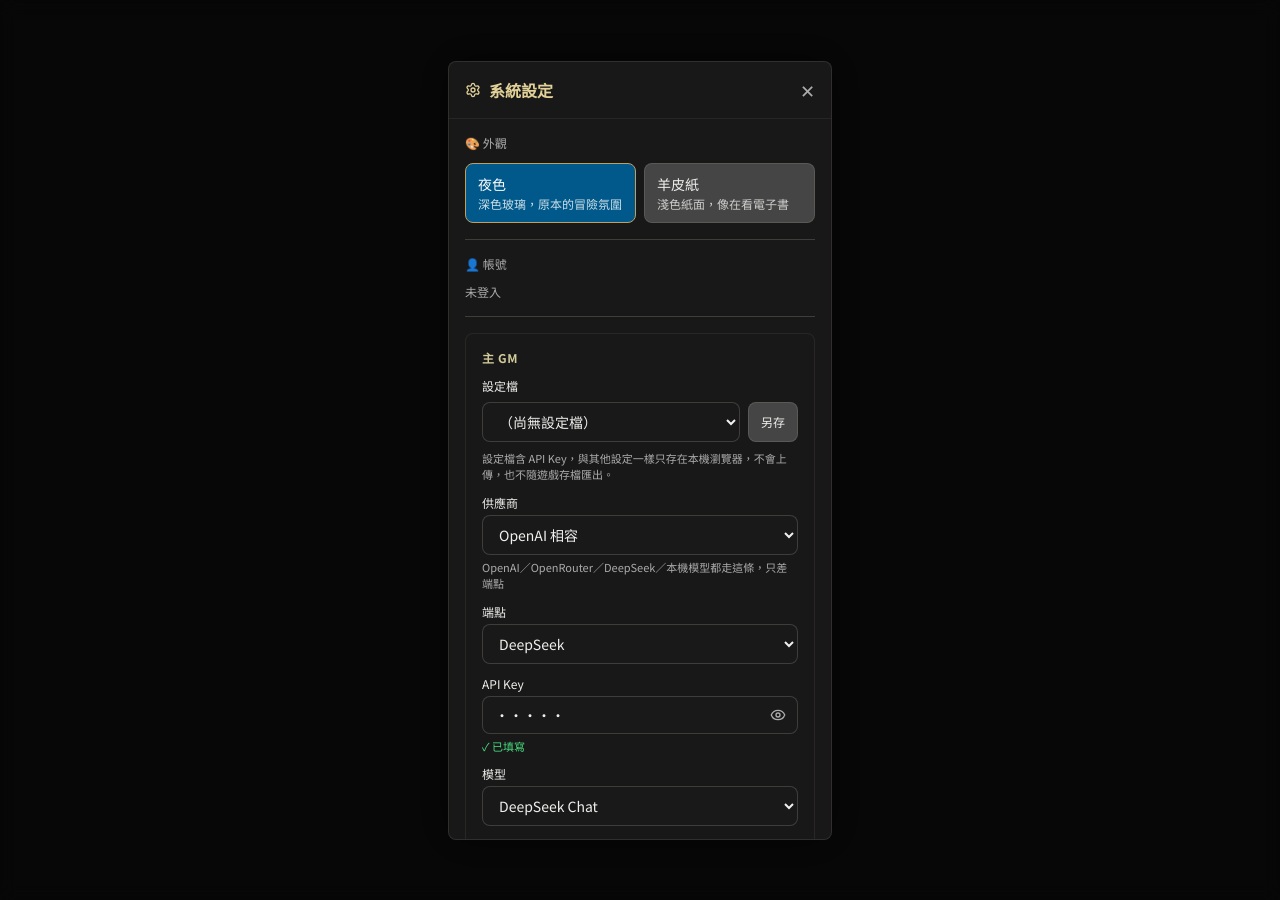
Test: SettingsModal — 設定檔 › localStorage 寫不進去時明講，不靜默失敗
Click the button "另存": (773, 422) [748, 402, 798, 442]
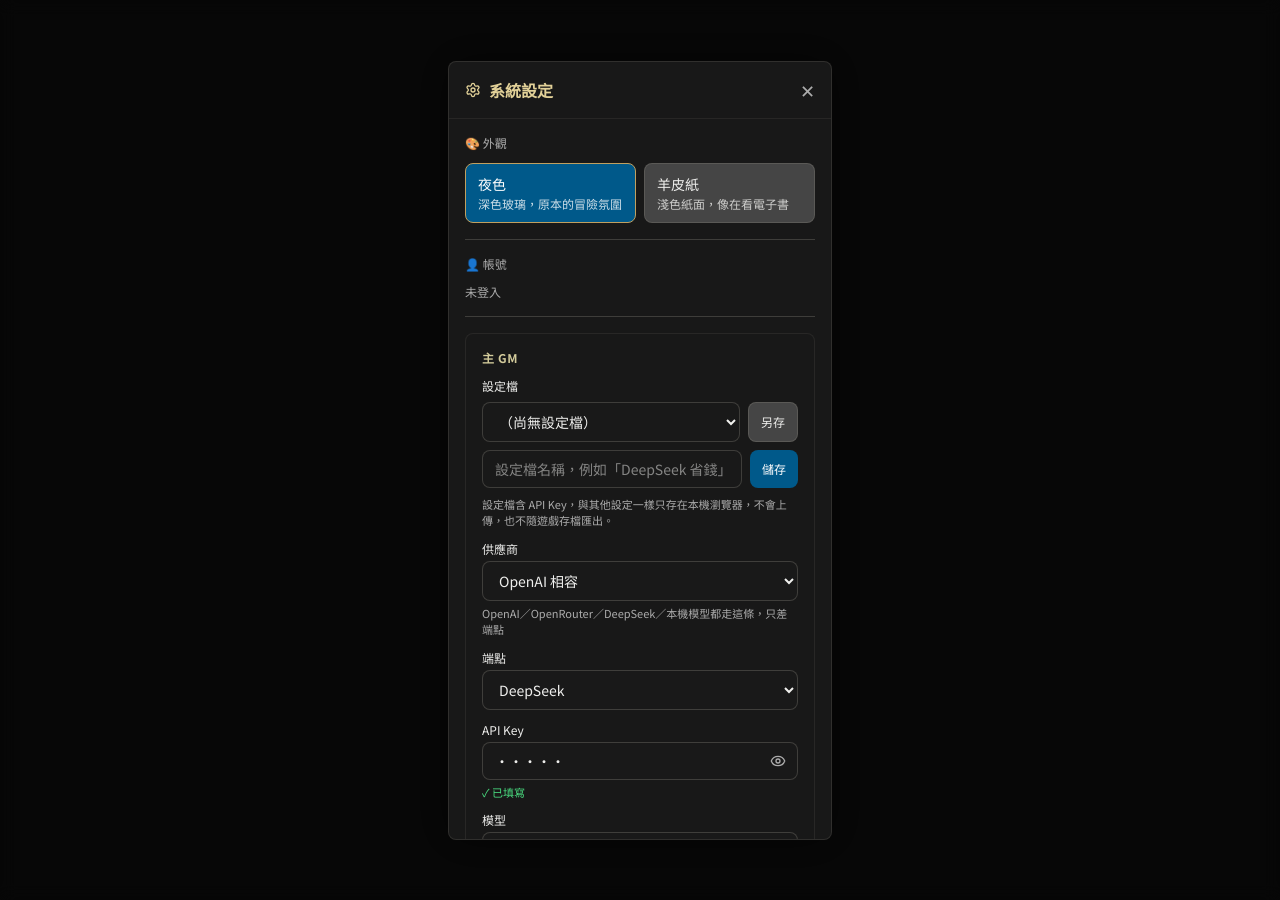
In the field labelled "設定檔名稱": (612, 468) [482, 450, 742, 488], type "X"
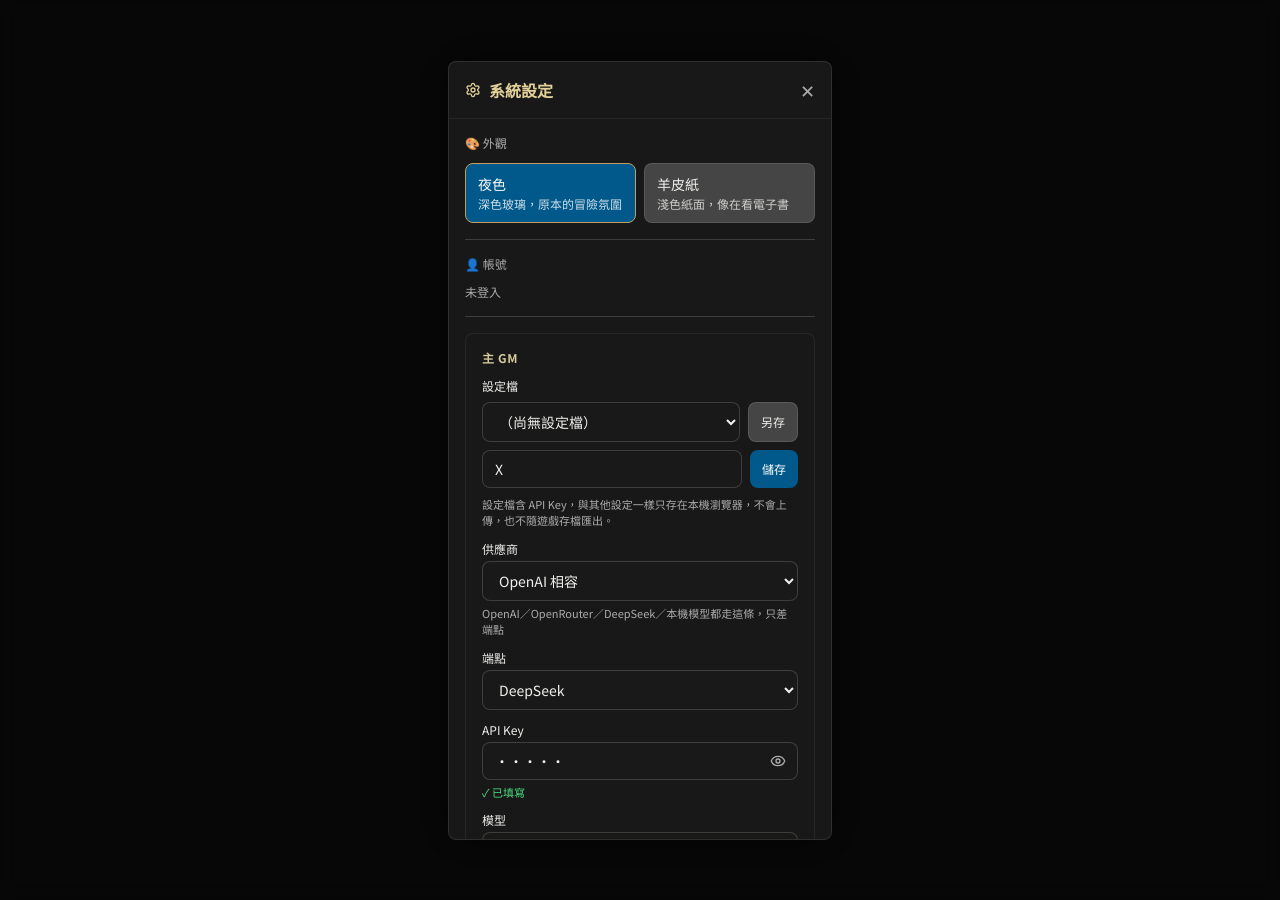
Click the button "儲存": (774, 468) [750, 450, 798, 488]
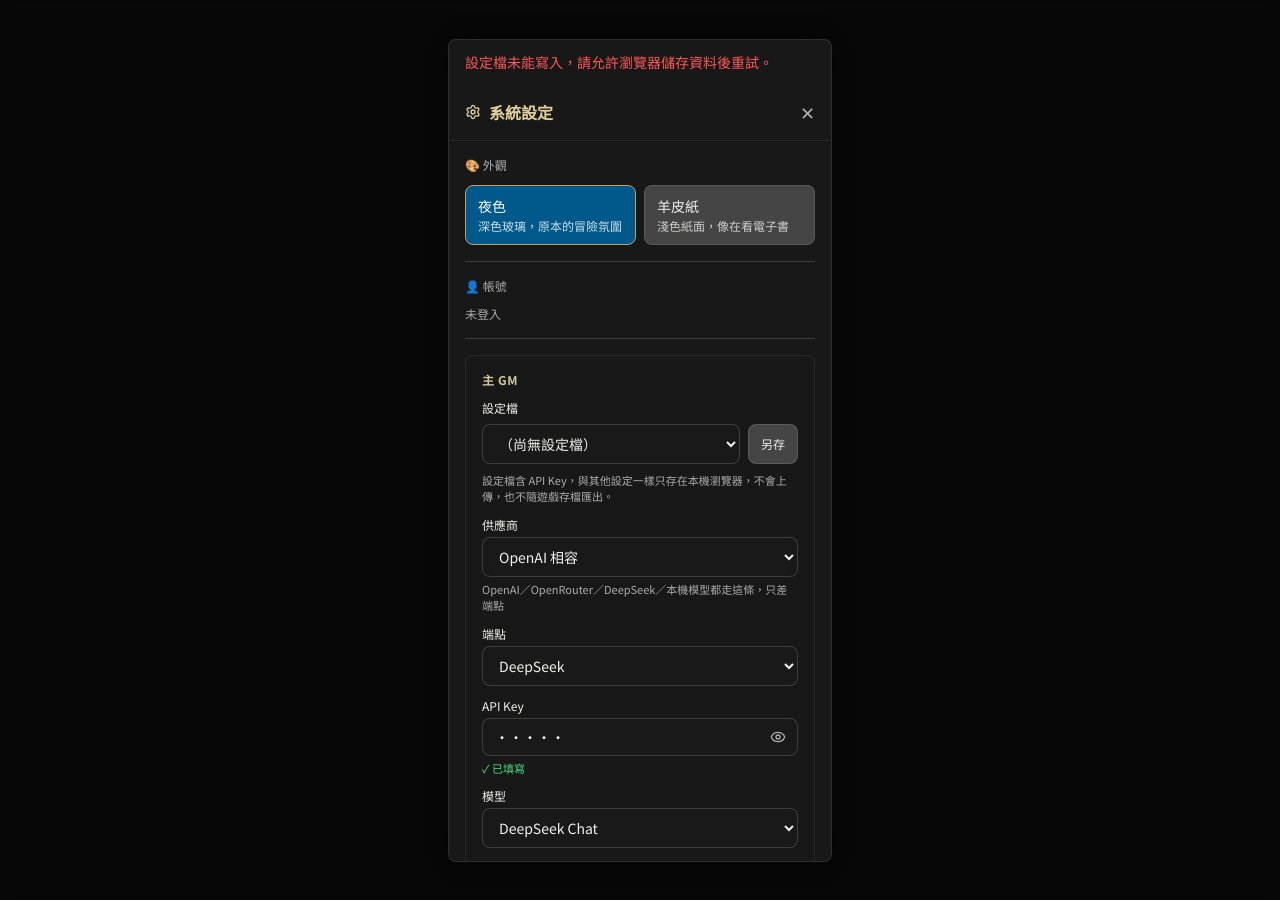
Expected: the message shows "設定檔未能寫入", [465, 52, 773, 72]
